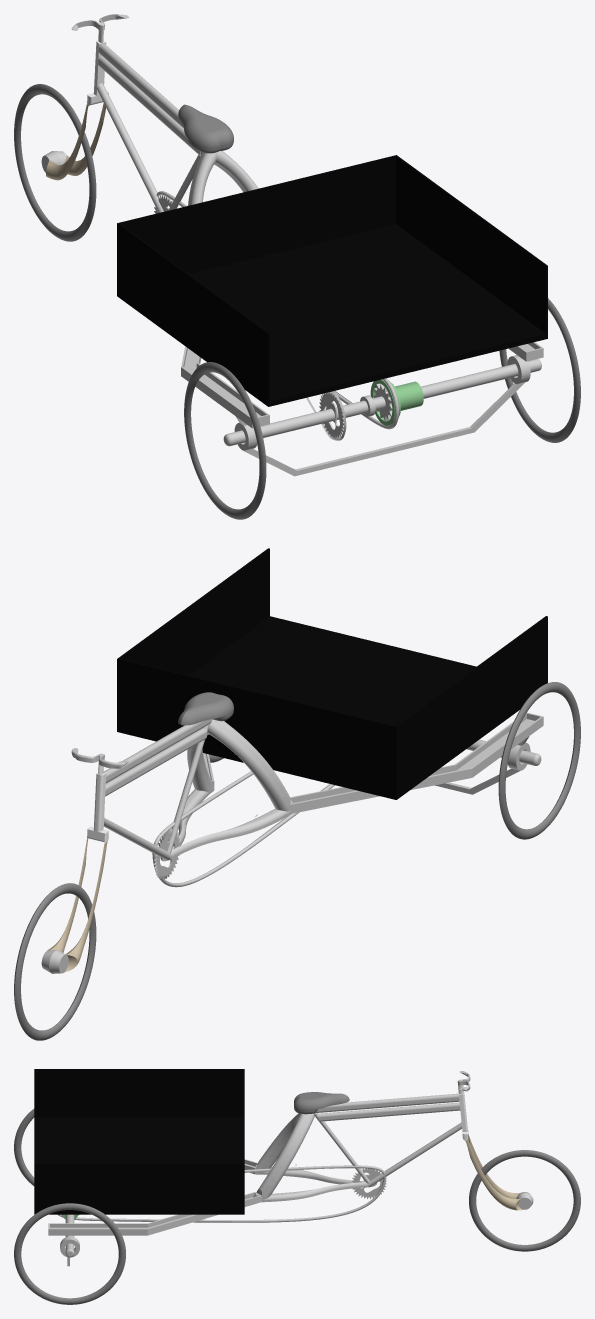
File: precision-drive.glb
3 views of the same model, one above another, from view 1: azimuth 30°, elevation 25°; view 2: azimuth 150°, elevation 25°; view 3: azimuth 270°, elevation 25° (orthographic). The views are drawn at different scales.
Parts seen in each view (by area): view 1: Node6, Node1, Node8, Node9, Node2, Node5; view 2: Node6, Node1, Node8, Node9, Node2, Node3; view 3: Node6, Node1, Node8, Node9, Node2.
Boxes of the visible parts, left/top/right/bottom form: Node6: left=117, top=155, right=547, bottom=406; Node1: left=41, top=14, right=543, bottom=476; Node8: left=14, top=84, right=580, bottom=519; Node9: left=188, top=151, right=346, bottom=440; Node2: left=46, top=103, right=105, bottom=180; Node5: left=370, top=379, right=423, bottom=425; Node6: left=117, top=548, right=547, bottom=799; Node1: left=41, top=712, right=543, bottom=973; Node8: left=14, top=682, right=580, bottom=1040; Node9: left=187, top=719, right=378, bottom=816; Node2: left=47, top=838, right=107, bottom=972; Node3: left=87, top=772, right=108, bottom=842; Node6: left=34, top=1069, right=244, bottom=1214; Node1: left=48, top=1071, right=533, bottom=1266; Node8: left=14, top=1092, right=580, bottom=1304; Node9: left=188, top=1113, right=314, bottom=1223; Node2: left=465, top=1134, right=524, bottom=1210.
Size of the model in its own units: 183 by 135 by 405.
